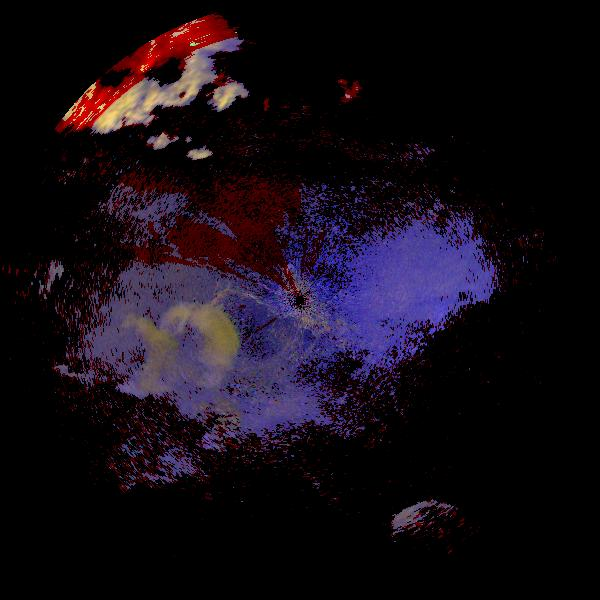roost: (74, 256, 275, 457), (365, 464, 512, 600)
